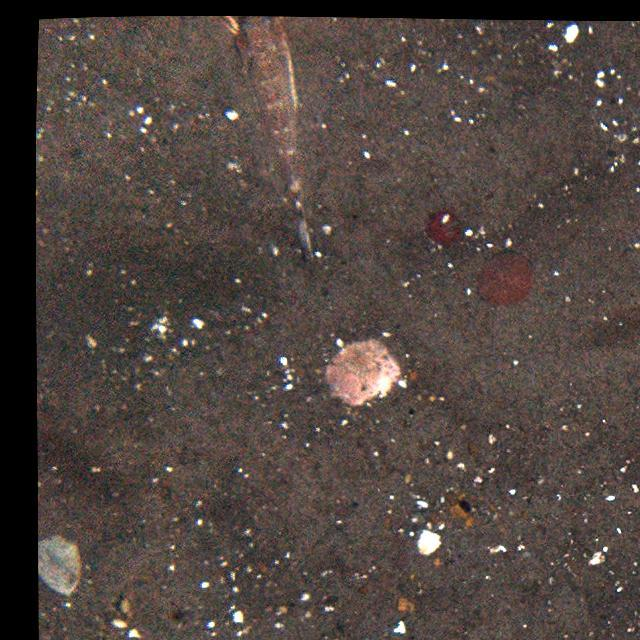roundfish: (218, 18, 326, 264)
